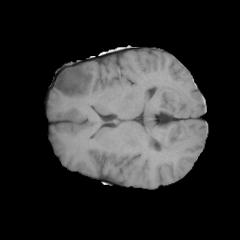glioma: (54, 65, 93, 98)
